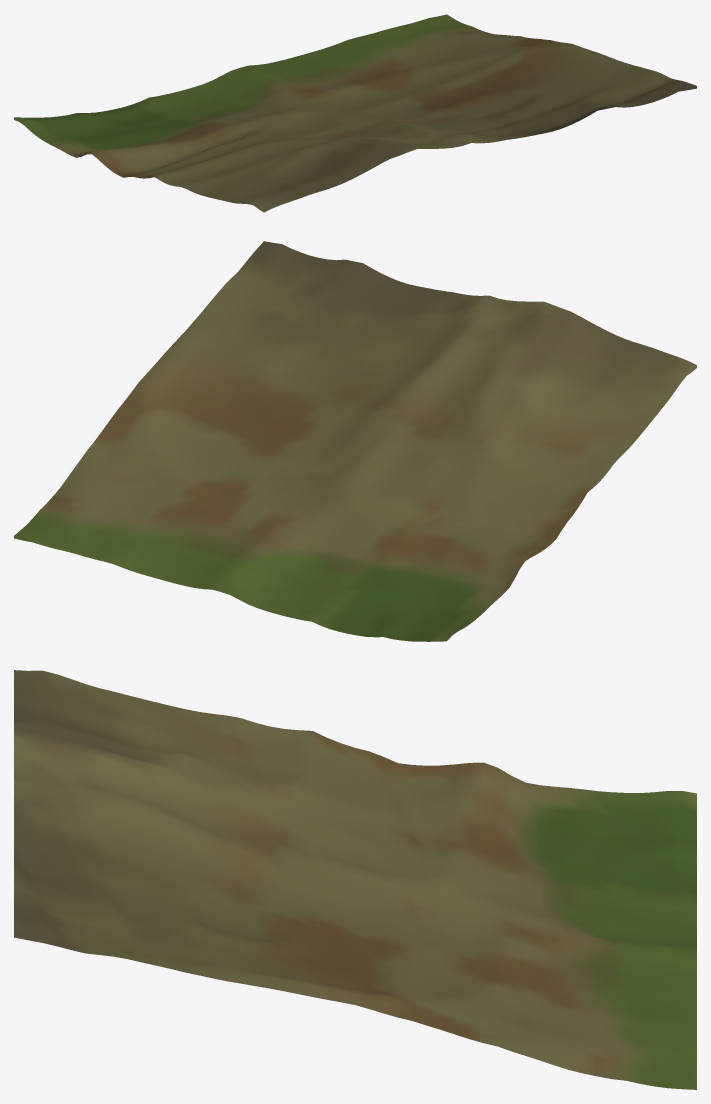
Rendered from land_m_07_09.glb.
The picture shows the model from 3 angles, top to bottom: view 1: azimuth 30°, elevation 25°; view 2: azimuth 150°, elevation 25°; view 3: azimuth 270°, elevation 25°; orthographic projection. The views are drawn at different scales.
Parts seen in each view (by area): view 1: land_m_07_09; view 2: land_m_07_09; view 3: land_m_07_09.
Boxes of the visible parts, x1,y1,x2,y2 form: land_m_07_09: (14,14,696,212); land_m_07_09: (14,241,696,641); land_m_07_09: (14,670,696,1089).
Size of the model in its own units: 960 by 289 by 960.
